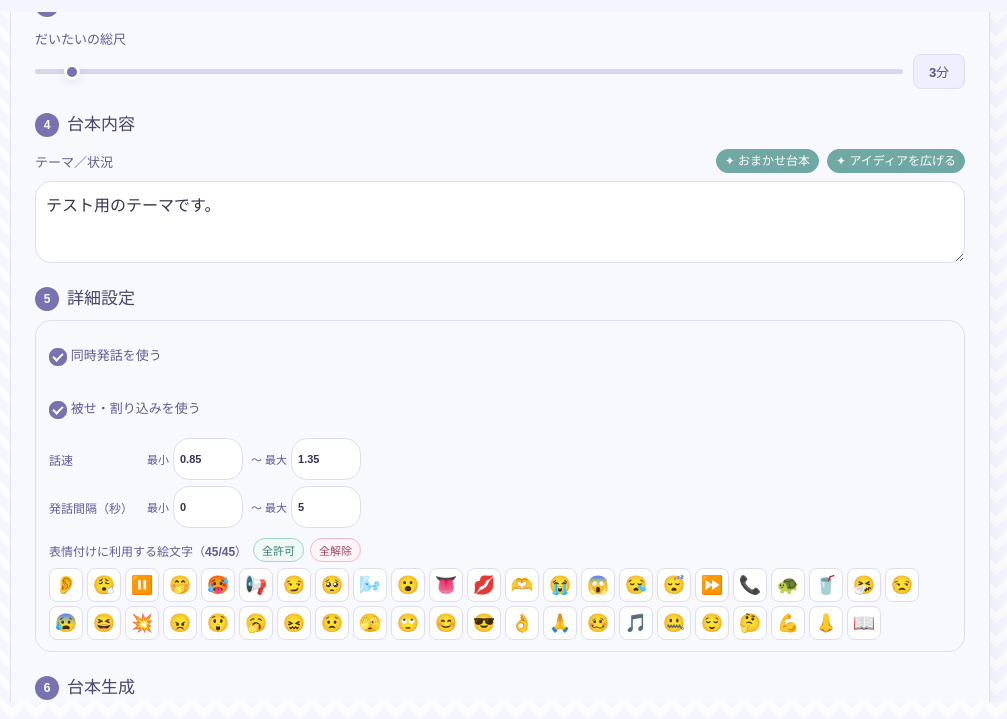
DraftView › keeps simultaneous cues and overlaps independent and hides them below two casts
The image size is (1007, 719).
(page scrolled)
Expected: the checkbox labelled "被せ・割り込みを使う" is checked, [49,401,67,419]
Click the checkbox labelled "同時発話を使う" at [58, 357], box [49,348,67,366]
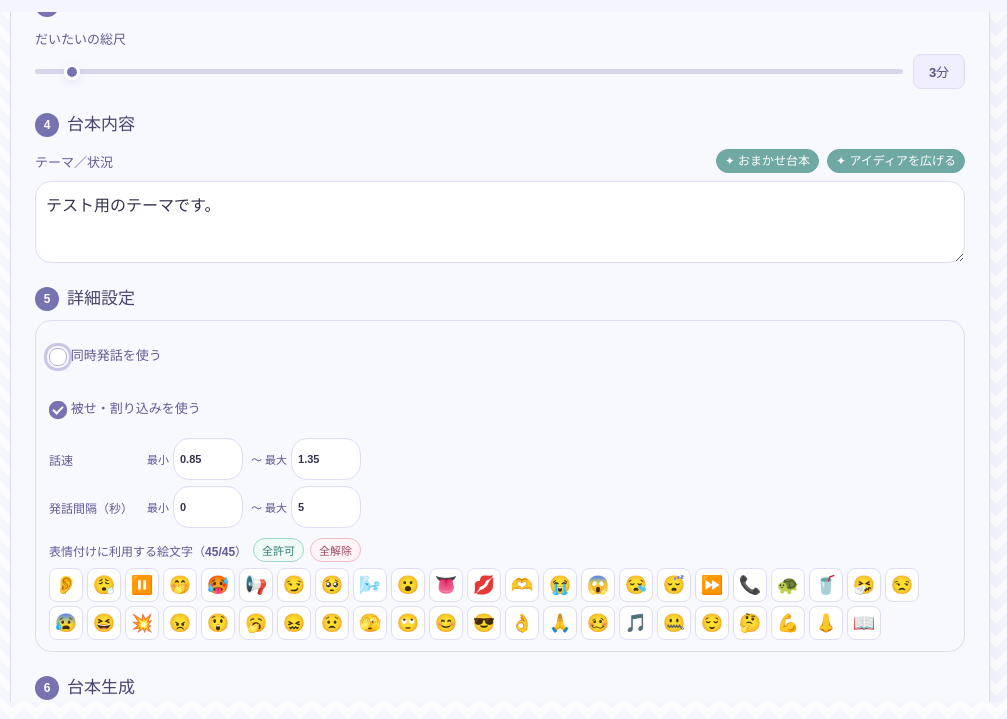
Now the checkbox labelled "同時発話を使う" is not checked, box [49,348,67,366]
Click the checkbox labelled "被せ・割り込みを使う" at [58, 410], box [49,401,67,419]
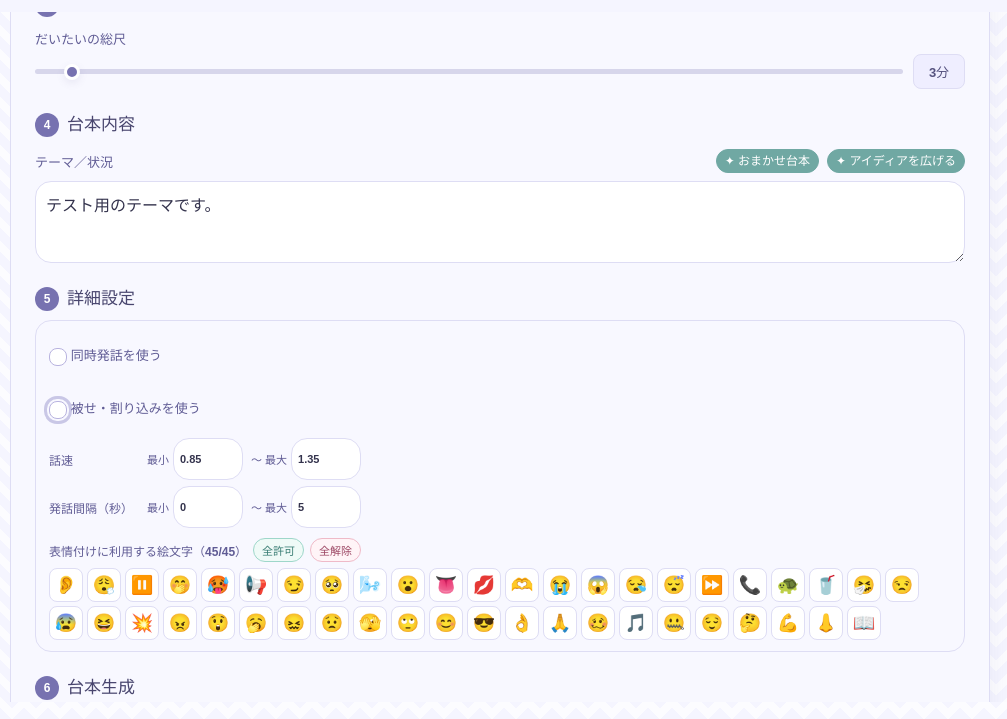
Now the checkbox labelled "被せ・割り込みを使う" is not checked, box [49,401,67,419]
Click the checkbox labelled "同時発話を使う" at [58, 357], box [49,348,67,366]
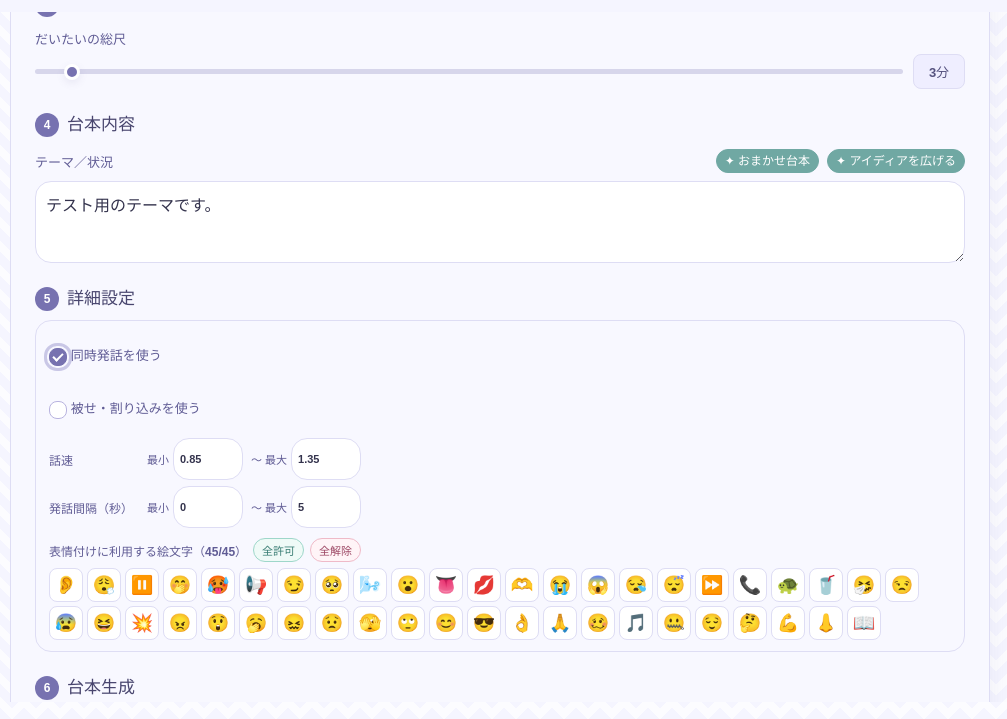
Now the checkbox labelled "同時発話を使う" is checked, box [49,348,67,366]
